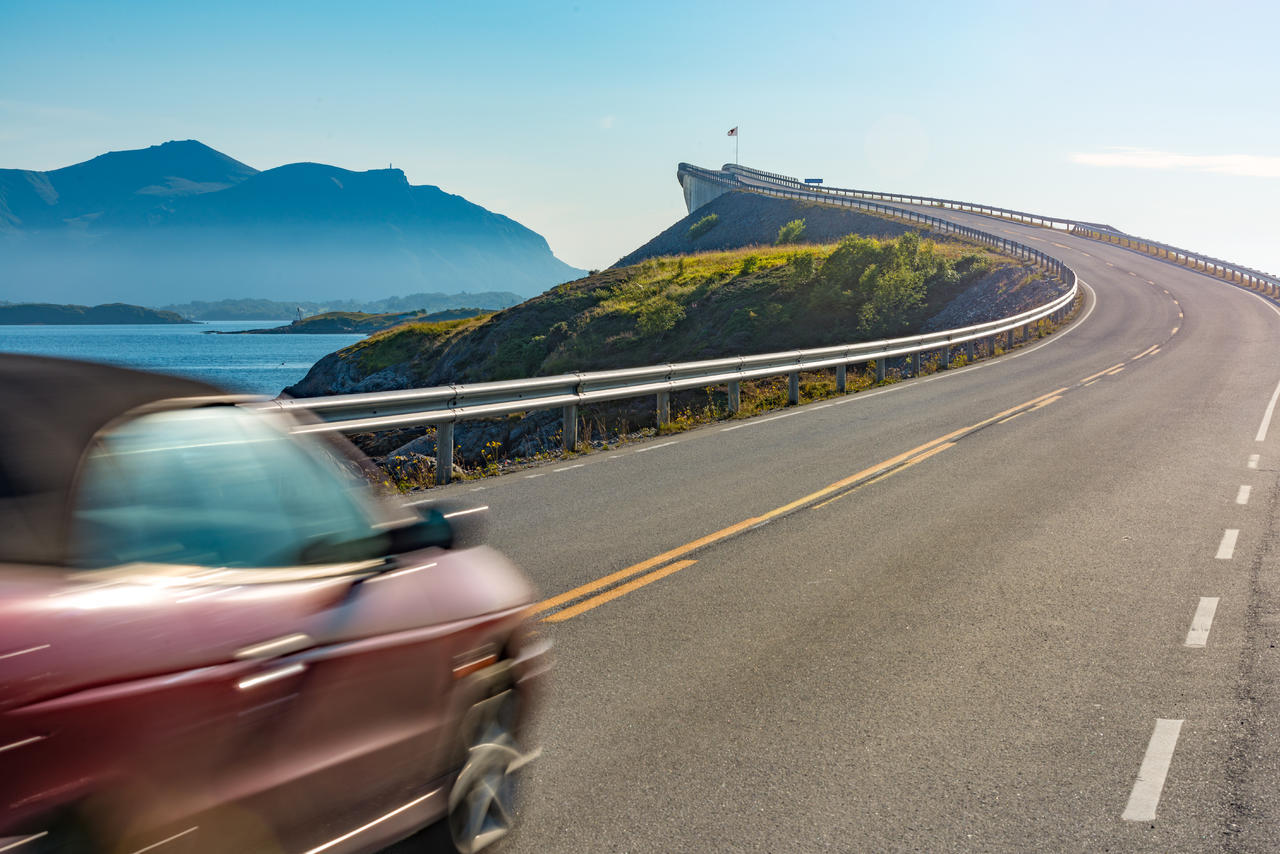car: (1, 386, 553, 835)
